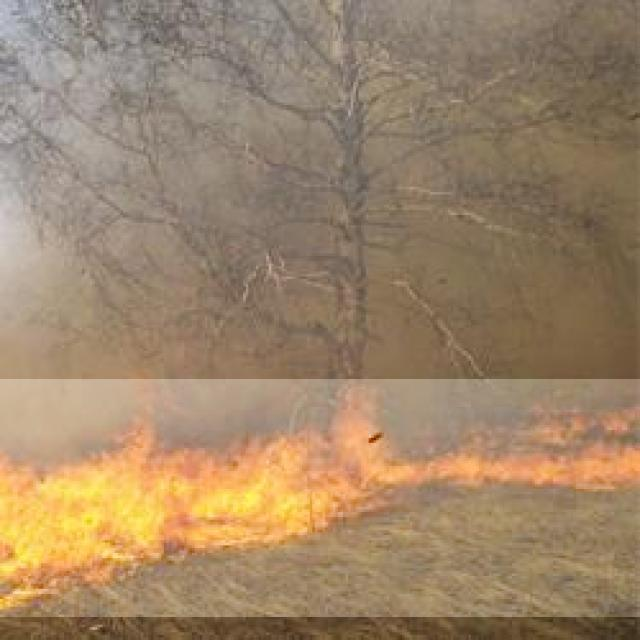Fire: (0, 379, 640, 617)
